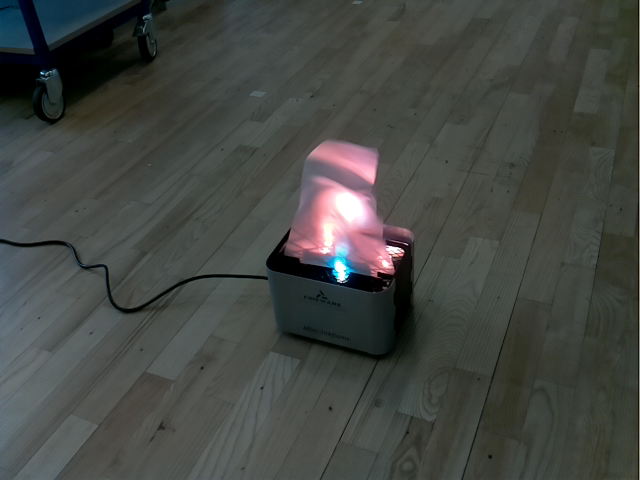fire: (284, 140, 395, 278)
